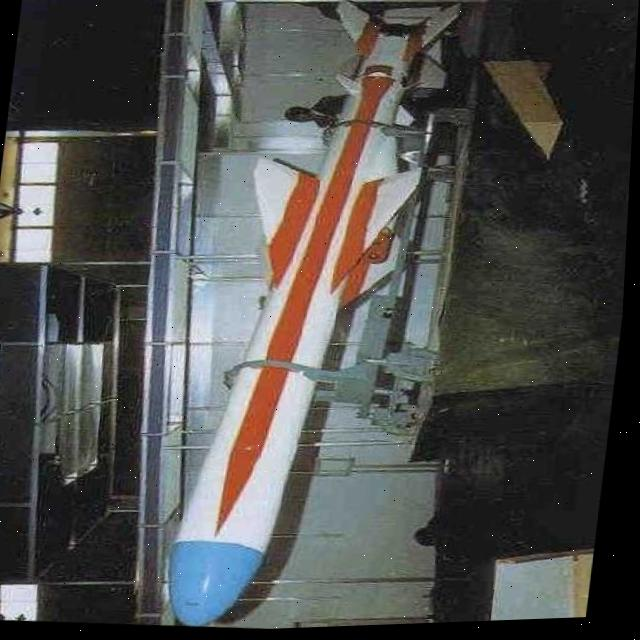missile: (152, 0, 456, 635)
